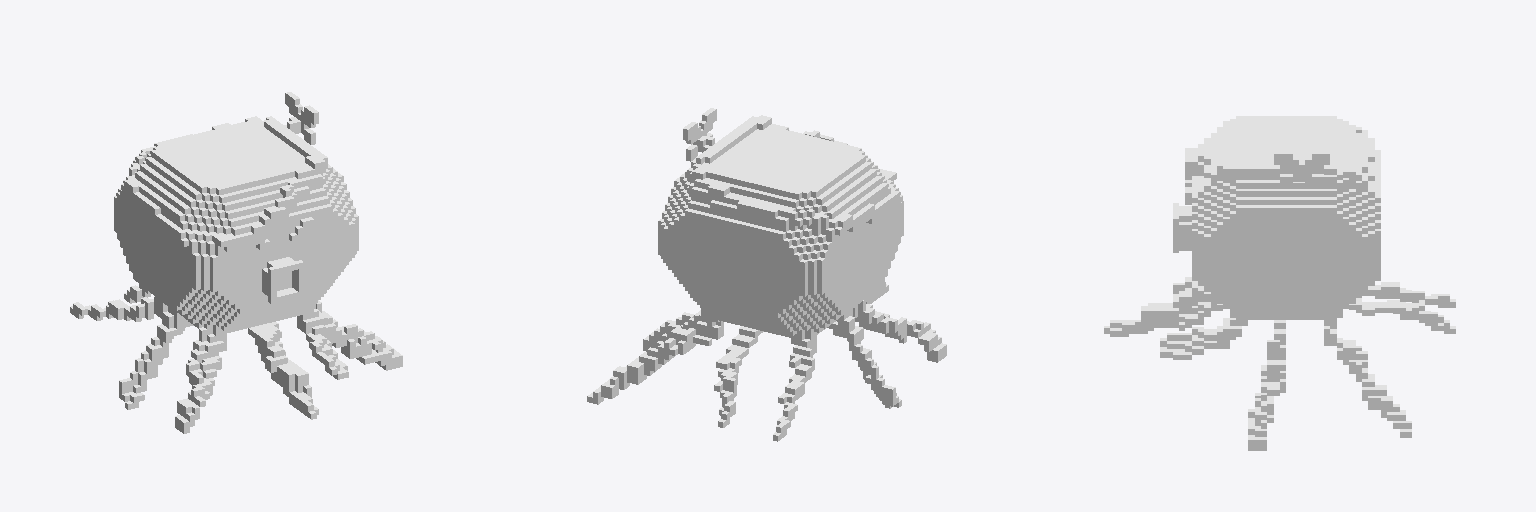
Rendered from takoshoot.obj.
The picture shows the model from 3 angles: view 1: azimuth 30°, elevation 25°; view 2: azimuth 150°, elevation 25°; view 3: azimuth 270°, elevation 25°; orthographic projection.
Parts seen in each view (by area): view 1: object 1; view 2: object 1; view 3: object 1.
Part boxes in pixels (left/top/right/bottom): object 1: left=70, top=92, right=402, bottom=433; object 1: left=587, top=108, right=946, bottom=441; object 1: left=1104, top=116, right=1455, bottom=450.
Bounding box in the file's own units: 4.8 × 4.6 × 5.6.